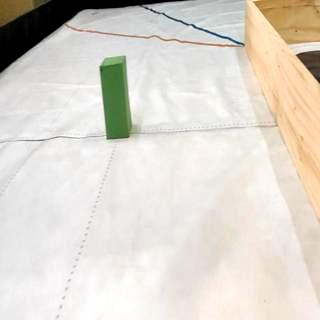greenbox: (100, 56, 130, 140)
